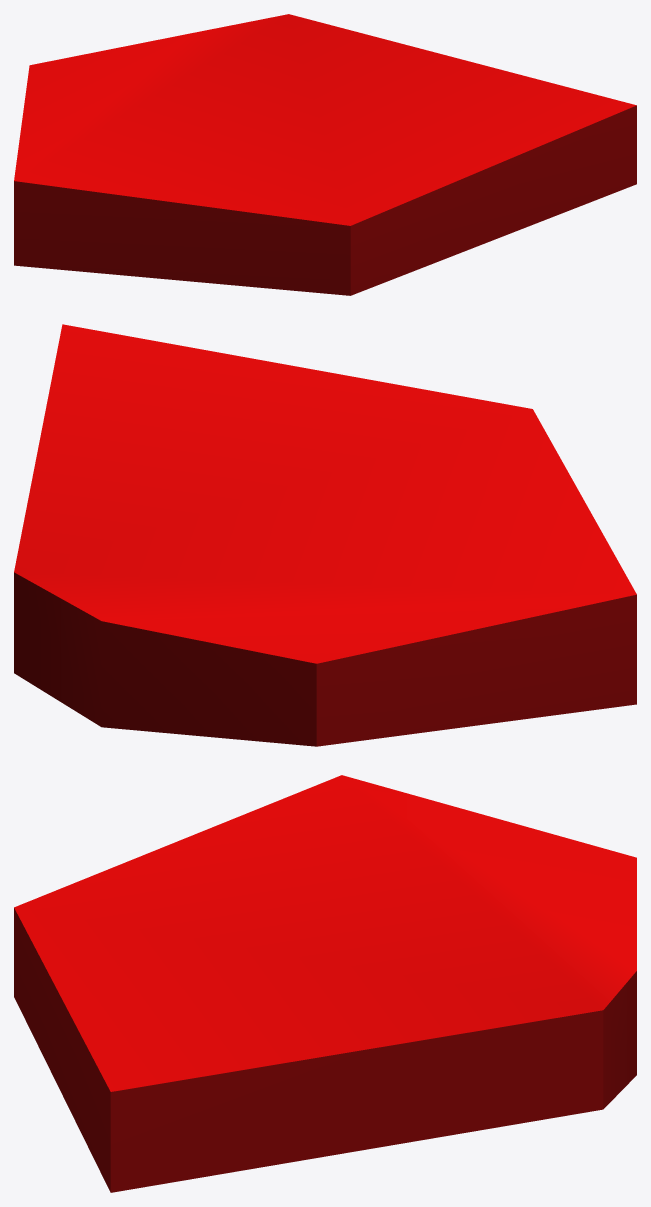
The model's file is geology-landforms-icedrift_v6.fbx.
3 renders of one model, top to bottom at view 1: azimuth 30°, elevation 25°; view 2: azimuth 150°, elevation 25°; view 3: azimuth 270°, elevation 25°, orthographic. The views are drawn at different scales.
Parts seen in each view (by area): view 1: IceDrift_v6; view 2: IceDrift_v6; view 3: IceDrift_v6.
Part boxes in pixels (box(x1,y1,x2,y2)): IceDrift_v6: box(14, 14, 636, 295); IceDrift_v6: box(14, 324, 636, 746); IceDrift_v6: box(14, 775, 636, 1192).
Size of the model in its own units: 2.57 by 0.4694 by 2.03.
